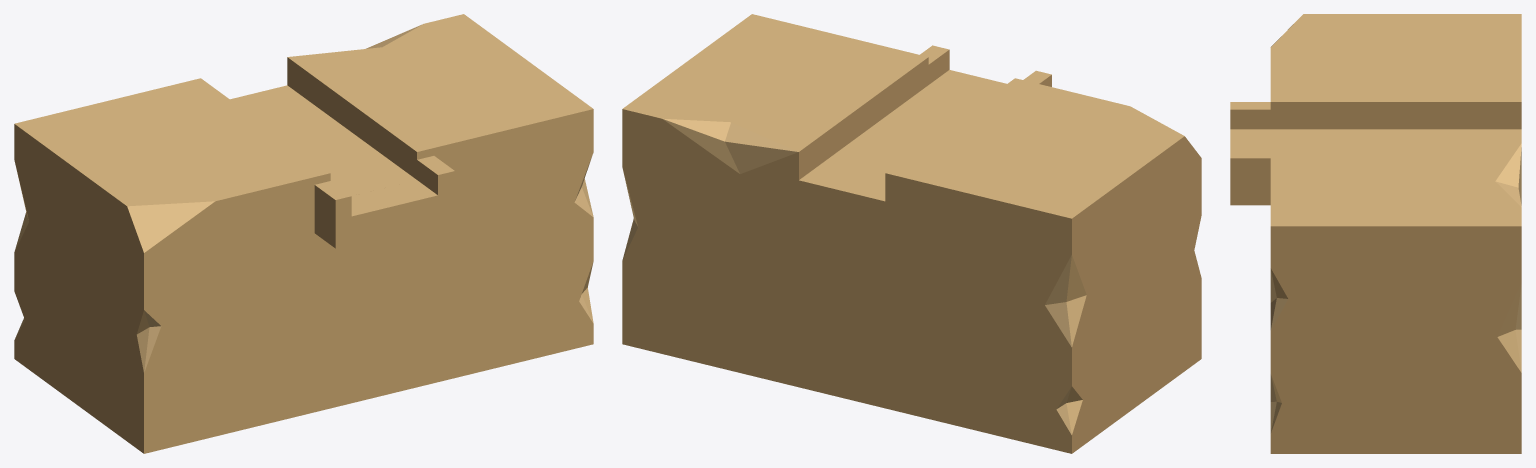
Rendered from ST_Env_Block_Waterway_01.fbx.
The picture shows the model from 3 angles, left to right: view 1: azimuth 30°, elevation 25°; view 2: azimuth 150°, elevation 25°; view 3: azimuth 270°, elevation 25°; orthographic projection. The views are drawn at different scales.
Parts seen in each view (by area): view 1: ST_Env_Block_Waterway_01; view 2: ST_Env_Block_Waterway_01; view 3: ST_Env_Block_Waterway_01.
Part boxes in pixels (left/top/right/bottom): ST_Env_Block_Waterway_01: left=14, top=14, right=593, bottom=453; ST_Env_Block_Waterway_01: left=622, top=14, right=1201, bottom=453; ST_Env_Block_Waterway_01: left=1230, top=14, right=1521, bottom=453.
Size of the model in its own units: 10 by 5 by 5.8.
